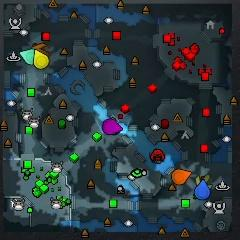p1: (194, 180, 210, 200)
p2: (21, 48, 35, 65)
p3: (102, 118, 123, 134)
p4: (33, 49, 49, 69)
p5: (171, 169, 191, 185)
x2: (195, 174, 212, 189)
x5: (32, 42, 49, 56)
